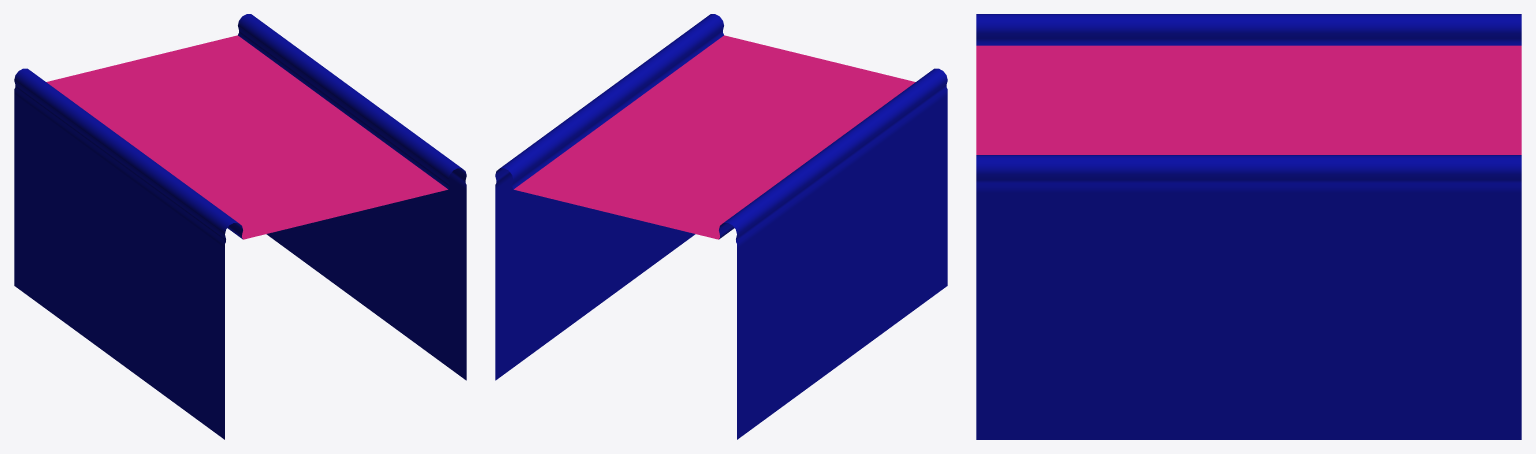
Rendered from Strunjaca_dodatna.fbx.
The picture shows the model from 3 angles, left to right: view 1: azimuth 30°, elevation 25°; view 2: azimuth 150°, elevation 25°; view 3: azimuth 270°, elevation 25°; orthographic projection. The views are drawn at different scales.
Parts seen in each view (by area): view 1: Strunjaca_dodatna; view 2: Strunjaca_dodatna; view 3: Strunjaca_dodatna.
Boxes of the visible parts, <box> form: Strunjaca_dodatna: <box>14,14,466,439</box>; Strunjaca_dodatna: <box>495,14,947,439</box>; Strunjaca_dodatna: <box>976,14,1521,439</box>.
Size of the model in its own units: 5.3 by 4.5 by 8.
